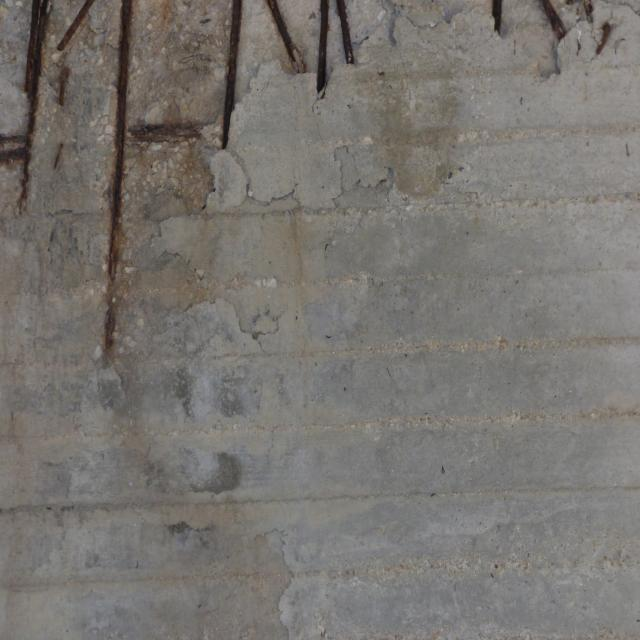corrosion: (0, 0, 369, 393), (476, 0, 631, 92)
